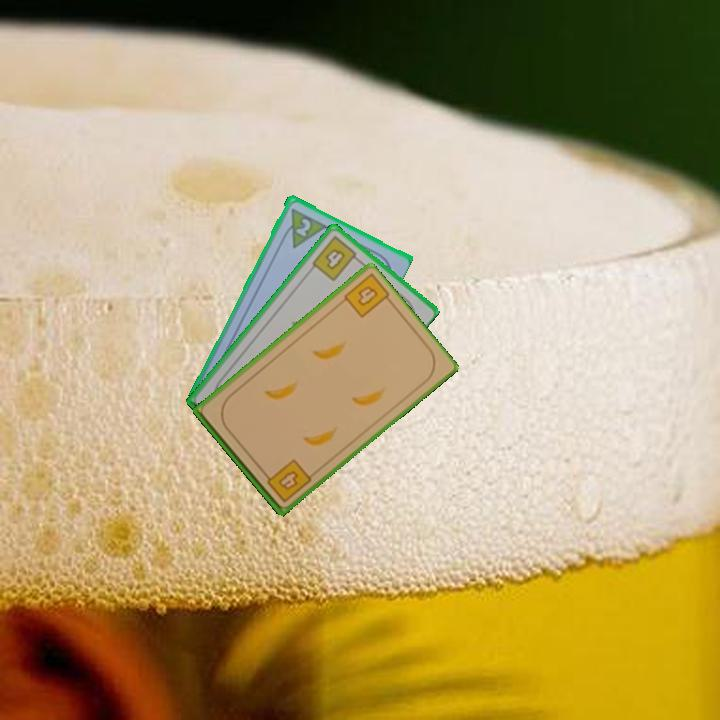2p: (277, 204, 328, 251)
4b: (308, 232, 363, 284), (259, 456, 314, 505), (354, 282, 381, 309)
